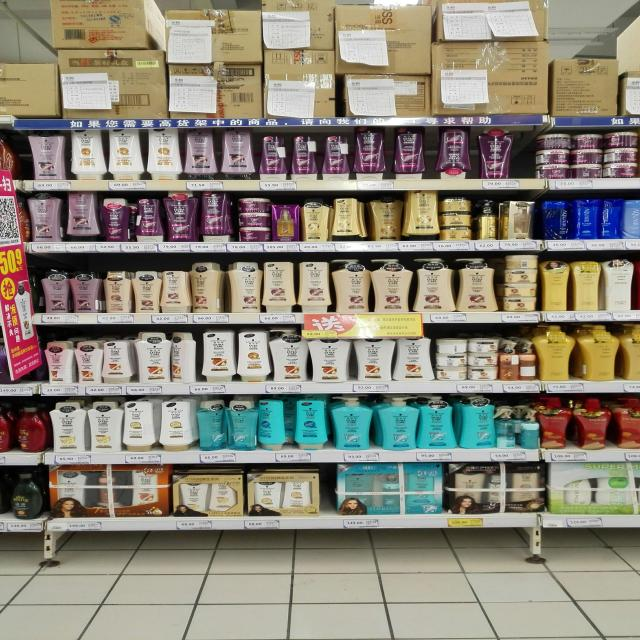empty: (507, 128, 538, 185)
